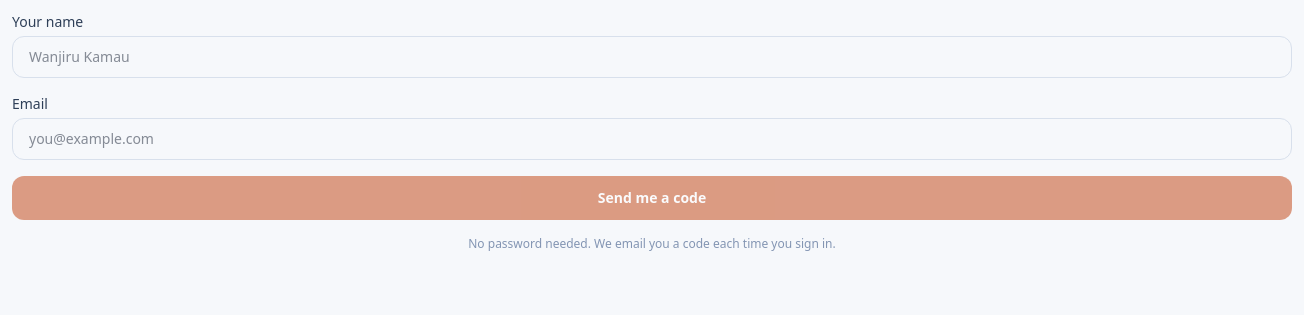
Test: JoinForm › explains a rejected code instead of leaving the form silent
Type "ada@example.com" into the field labelled "Email" at (652, 139), box [12,118,1292,160]
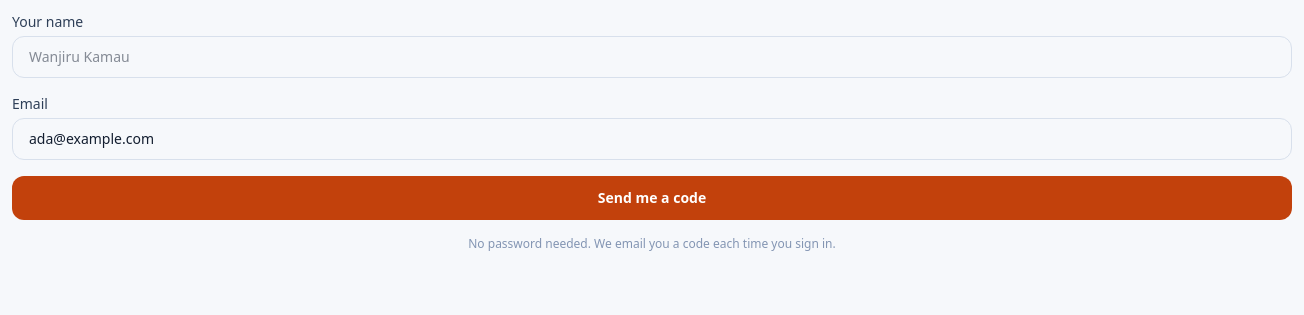
Click the button "Send me a code" at (652, 198), box [12,176,1292,220]
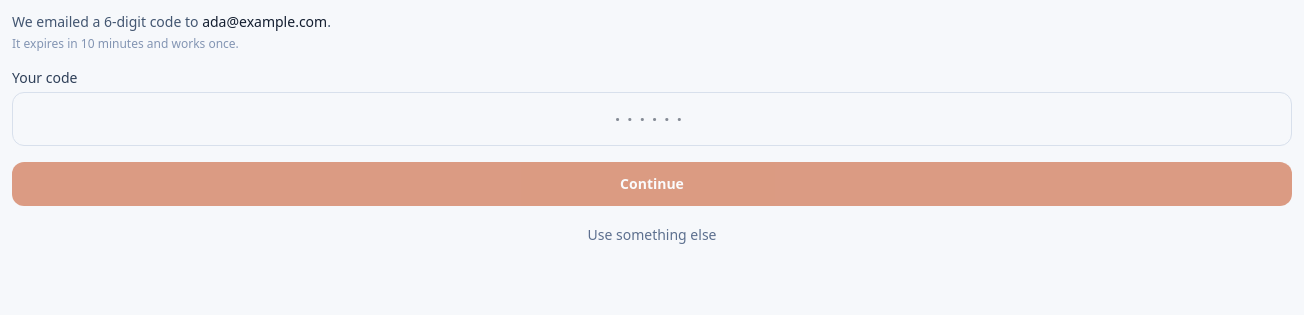
Type "000000" into the field labelled "Your code" at (652, 119), box [12,92,1292,146]
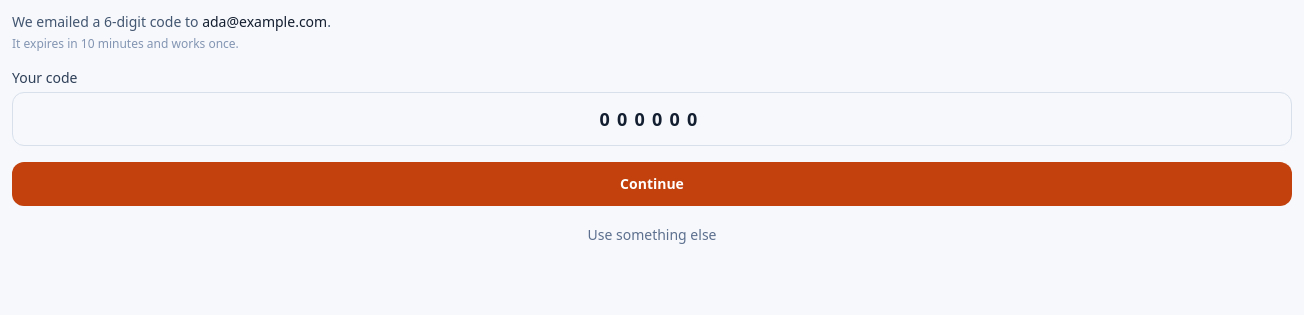
Click the button "Continue" at (652, 184), box [12,162,1292,206]
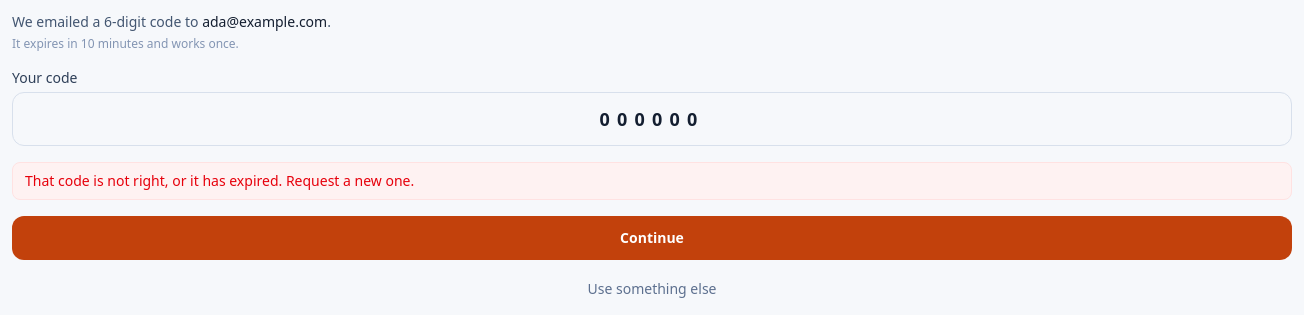
Expected: the message shows "not right, or it has expired", [25,171,414,190]
